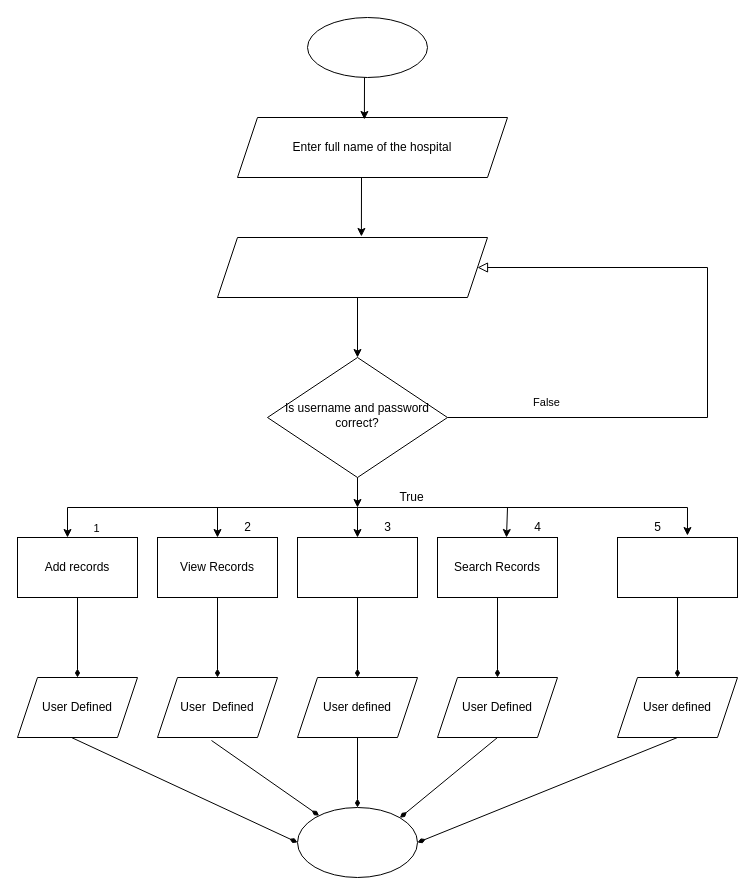
This 755x895 diagram has some shape labels left out. The box of each missing label's shape, as (x1, y1, x2, y2) in pixels:
Discharge Patient: (616, 536, 738, 598)
Edit Records: (296, 536, 418, 598)
Enter username and password: (216, 236, 488, 298)
Start: (306, 16, 428, 78)
Stop: (296, 806, 418, 878)
